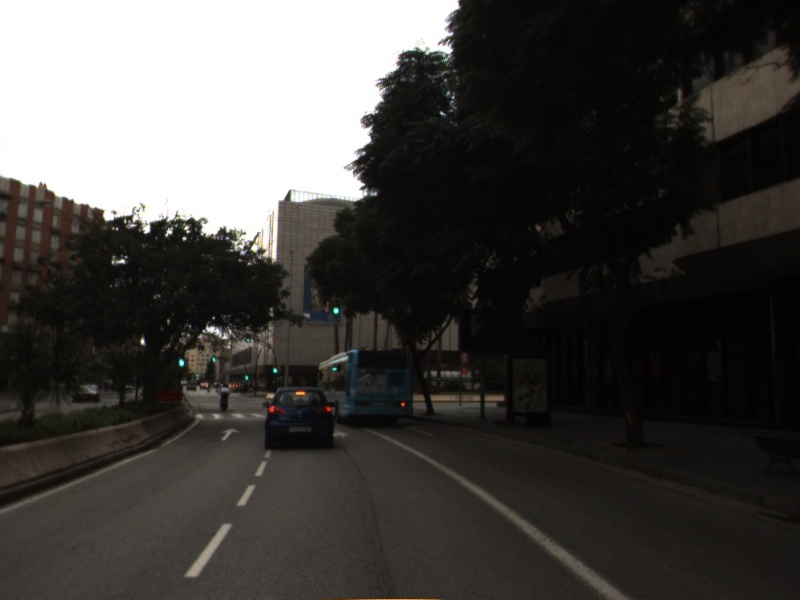RIGHT: (403, 423, 437, 438)
STRAIGHT: (217, 426, 243, 443)
